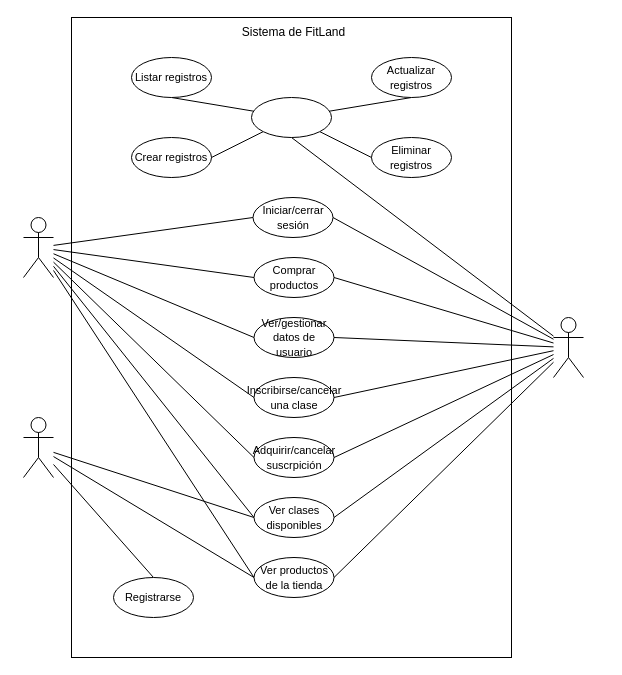
Image size: 622x675. Some labels were removed from this diagram. Here are the shapes that lost their labels. From the top down, the centre of each, then its label:
the point at 291,117: Acceso a panel de administración
the point at 38,247: Usuario
the point at 568,347: Administrador
the point at 38,447: Invitado
